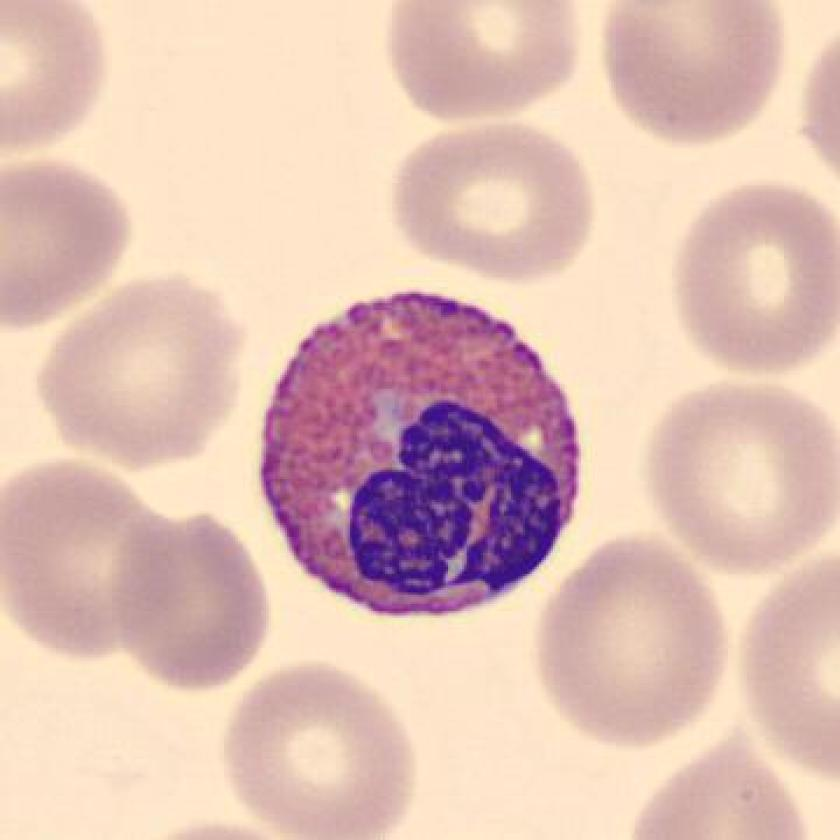eosinophil: (251, 281, 594, 630)
